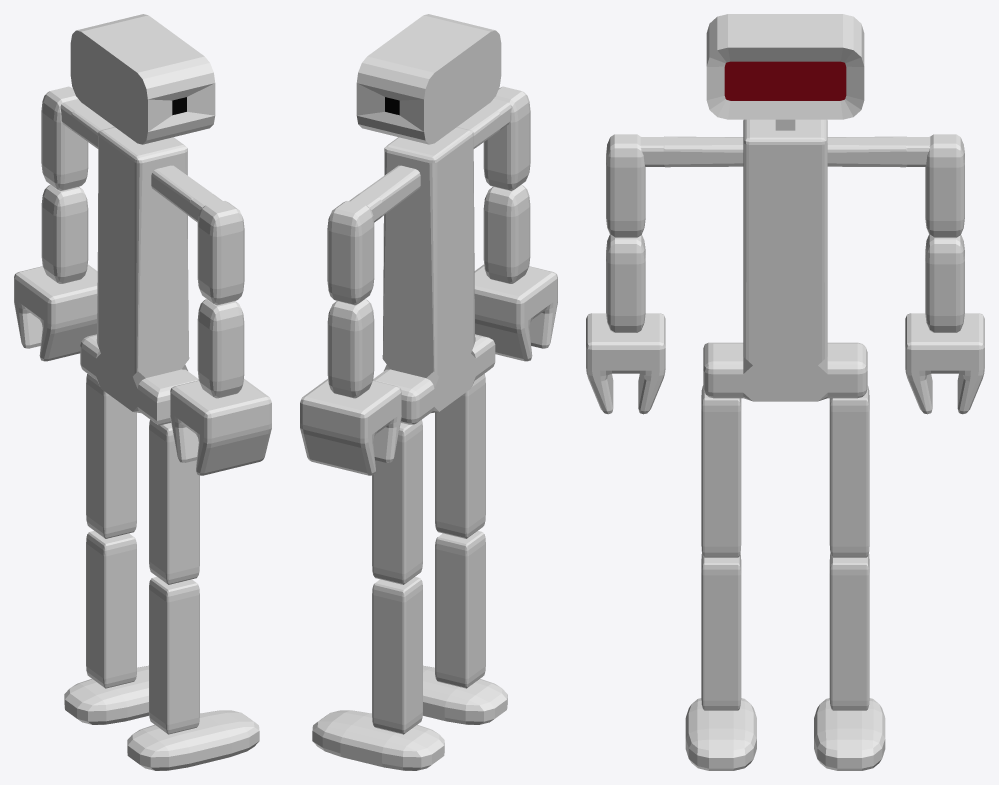
The model's file is Robot.fbx.
3 views of the same model, side by side, from view 1: azimuth 30°, elevation 25°; view 2: azimuth 150°, elevation 25°; view 3: azimuth 270°, elevation 25° (orthographic). The views are drawn at different scales.
Visible parts, largest first — view 1: Body, Head, Hand.001, Shin.001, Shin, Leg, Leg.001, Hand, Foot.001, Arm.001, Forearm.001, Forearm (+2 smaller); view 2: Body, Head, Hand, Shin, Shin.001, Leg.001, Leg, Hand.001, Foot, Arm, Forearm, Forearm.001 (+2 smaller); view 3: Body, Head, Leg, Leg.001, Shin, Shin.001, Hand, Hand.001, Foot, Foot.001, Arm, Arm.001 (+2 smaller).
Boxes of the visible parts, <box> form: Body: <box>60,99,222,425</box>; Head: <box>70,14,215,144</box>; Hand.001: <box>170,379,271,475</box>; Shin.001: <box>149,577,199,734</box>; Shin: <box>86,531,136,688</box>; Leg: <box>86,374,136,538</box>; Leg.001: <box>149,419,199,584</box>; Hand: <box>14,264,97,361</box>; Foot.001: <box>127,710,259,770</box>; Arm.001: <box>197,201,244,305</box>; Forearm.001: <box>197,299,244,398</box>; Forearm: <box>41,184,88,283</box>; Body: <box>349,99,511,424</box>; Head: <box>356,14,501,144</box>; Hand: <box>300,379,401,475</box>; Shin: <box>372,577,422,734</box>; Shin.001: <box>435,531,485,688</box>; Leg.001: <box>435,374,485,538</box>; Leg: <box>372,419,422,584</box>; Hand.001: <box>474,264,557,361</box>; Foot: <box>312,710,444,770</box>; Arm: <box>327,201,374,305</box>; Forearm: <box>327,299,374,398</box>; Forearm.001: <box>483,184,530,283</box>; Body: <box>640,119,930,401</box>; Head: <box>706,14,864,119</box>; Leg: <box>829,385,869,557</box>; Leg.001: <box>701,385,741,557</box>; Shin: <box>829,553,869,710</box>; Shin.001: <box>701,553,741,710</box>; Hand: <box>905,313,984,414</box>; Hand.001: <box>586,313,665,414</box>; Foot: <box>814,698,885,770</box>; Foot.001: <box>685,698,756,770</box>; Arm: <box>925,134,964,237</box>; Arm.001: <box>606,134,645,237</box>.
Bounding box in the file's own units: 353 × 1965 × 1002.
